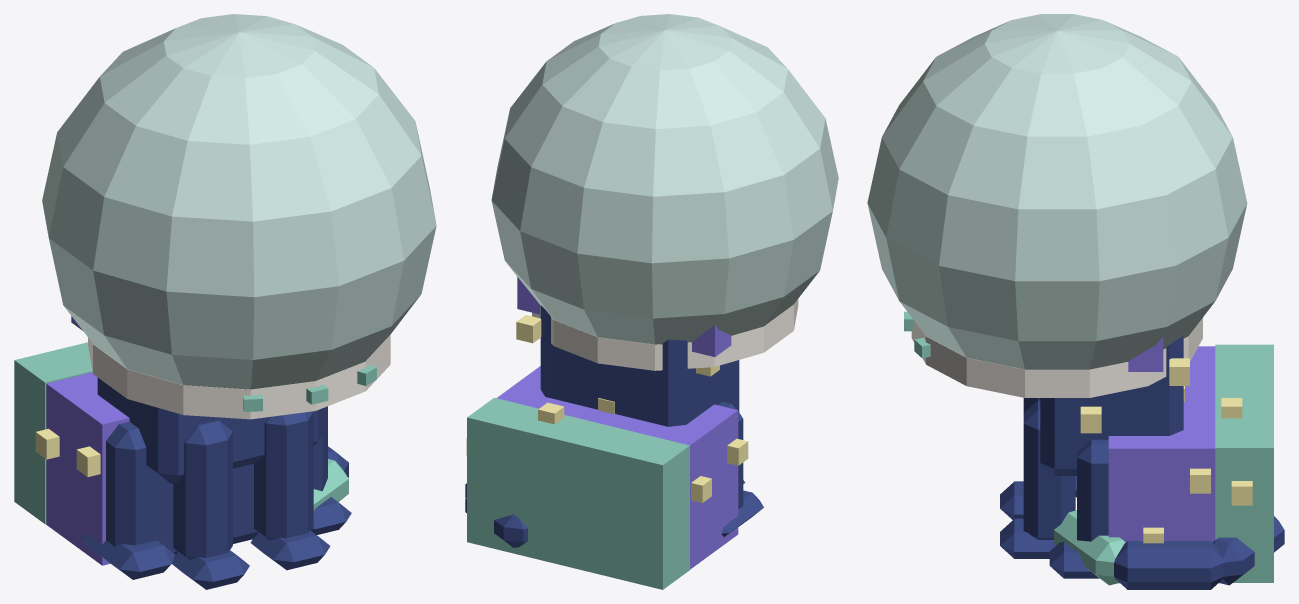
File: CatCafe_Cat_Aurora_Sit.glb
3 views of the same model, side by side, from view 1: azimuth 30°, elevation 25°; view 2: azimuth 150°, elevation 25°; view 3: azimuth 270°, elevation 25° (orthographic). The views are drawn at different scales.
Visible parts, largest first — view 1: CatCafe_Cat_Aurora_Sit_Prop_Glass, CatCafe_Cat_Aurora_Sit_Body, CatCafe_Cat_Aurora_Sit_Prop, CatCafe_Cat_Aurora_Sit_LegF2, CatCafe_Cat_Aurora_Sit_LegF1, CatCafe_Cat_Aurora_Sit_Tail; view 2: CatCafe_Cat_Aurora_Sit_Prop_Glass, CatCafe_Cat_Aurora_Sit_Body, CatCafe_Cat_Aurora_Sit_Prop, CatCafe_Cat_Aurora_Sit_Head, CatCafe_Cat_Aurora_Sit_Tail; view 3: CatCafe_Cat_Aurora_Sit_Prop_Glass, CatCafe_Cat_Aurora_Sit_Body, CatCafe_Cat_Aurora_Sit_Tail, CatCafe_Cat_Aurora_Sit_Prop, CatCafe_Cat_Aurora_Sit_LegF1, CatCafe_Cat_Aurora_Sit_LegF2, CatCafe_Cat_Aurora_Sit_Head.
Boxes of the visible parts, box(x1,y1,x2,y2) form: CatCafe_Cat_Aurora_Sit_Prop_Glass: box(42, 14, 436, 389); CatCafe_Cat_Aurora_Sit_Body: box(14, 342, 351, 579); CatCafe_Cat_Aurora_Sit_Prop: box(88, 335, 390, 419); CatCafe_Cat_Aurora_Sit_LegF2: box(172, 420, 249, 589); CatCafe_Cat_Aurora_Sit_LegF1: box(250, 411, 330, 570); CatCafe_Cat_Aurora_Sit_Tail: box(313, 446, 348, 510); CatCafe_Cat_Aurora_Sit_Prop_Glass: box(491, 14, 838, 344); CatCafe_Cat_Aurora_Sit_Body: box(466, 305, 763, 589); CatCafe_Cat_Aurora_Sit_Prop: box(532, 299, 798, 370); CatCafe_Cat_Aurora_Sit_Head: box(517, 277, 731, 356); CatCafe_Cat_Aurora_Sit_Tail: box(465, 483, 527, 547); CatCafe_Cat_Aurora_Sit_Prop_Glass: box(867, 14, 1247, 369); CatCafe_Cat_Aurora_Sit_Body: box(1040, 335, 1273, 583); CatCafe_Cat_Aurora_Sit_Tail: box(1054, 510, 1284, 589); CatCafe_Cat_Aurora_Sit_Prop: box(904, 311, 1202, 397); CatCafe_Cat_Aurora_Sit_LegF1: box(1000, 400, 1075, 558); CatCafe_Cat_Aurora_Sit_LegF2: box(1000, 398, 1040, 519); CatCafe_Cat_Aurora_Sit_Head: box(1128, 337, 1163, 371).
Bounding box in the file's own units: 1.35 × 2.02 × 1.52.
Materials: 1 (1 with a texture image).
